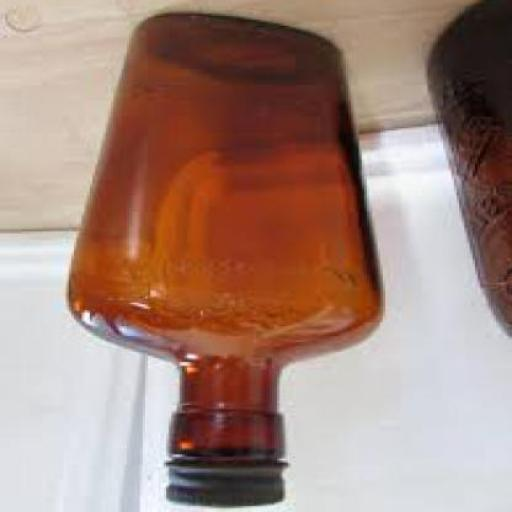glass: (66, 16, 380, 464), (422, 2, 510, 340)
metal: (161, 462, 288, 510)
